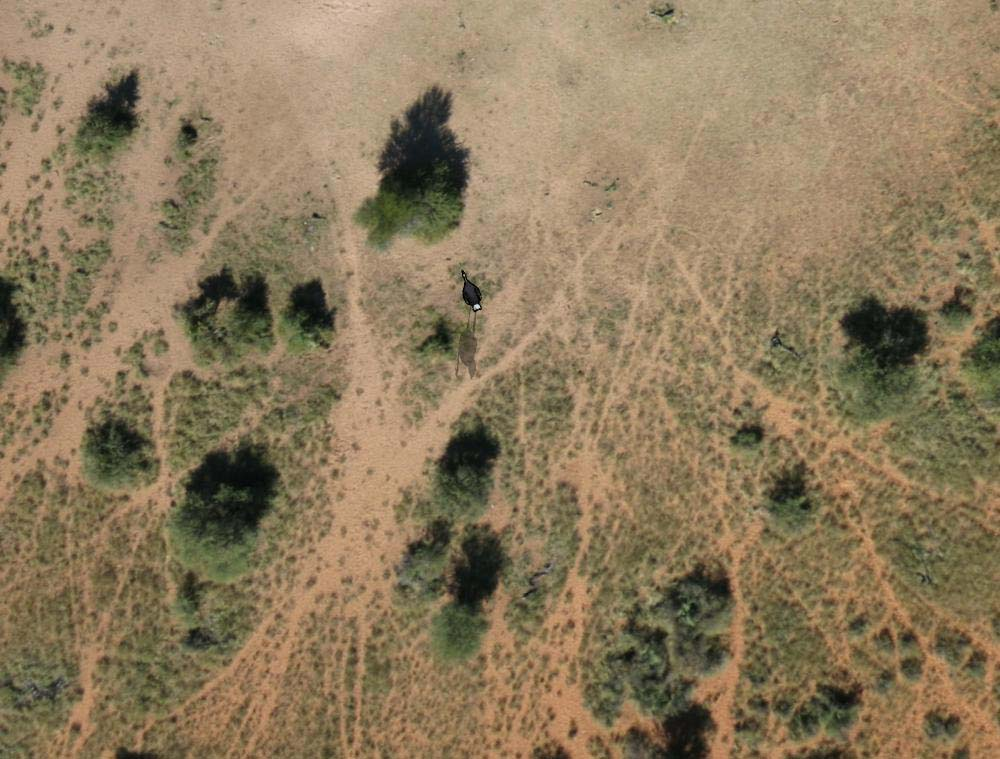ostrich: (456, 268, 483, 315)
